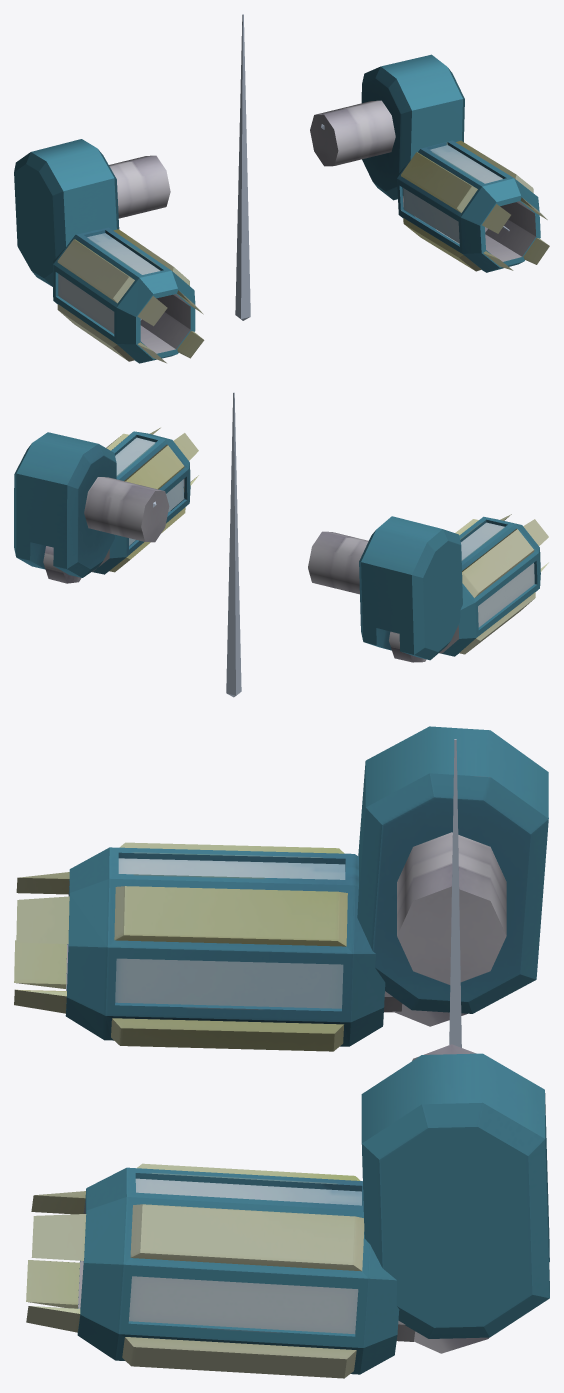
File: player_arm1.obj
3 renders of one model, top to bottom at view 1: azimuth 30°, elevation 25°; view 2: azimuth 150°, elevation 25°; view 3: azimuth 270°, elevation 25°, orthographic. The views are drawn at different scales.
Visible parts, largest first — view 1: Object009, Object010, Object007, Object008, Object005, Object006, Bone001; view 2: Object007, Object008, Object009, Object010, Object005, Bone001, Object006; view 3: Object009, Object010, Object008, Object007, Object006, Bone001.
Part boxes in pixels (box(x1,y1,x2,y2)): Object009: box(53, 227, 204, 363); Object010: box(397, 140, 549, 272); Object007: box(14, 139, 119, 286); Object008: box(361, 54, 464, 200); Object005: box(310, 100, 395, 166); Object006: box(109, 155, 170, 218); Bone001: box(235, 14, 250, 320); Object007: box(359, 516, 462, 660); Object008: box(14, 432, 116, 577); Object009: box(389, 514, 548, 662); Object010: box(43, 427, 198, 583); Object005: box(84, 477, 169, 542); Bone001: box(226, 392, 241, 697); Object006: box(308, 531, 368, 594); Object009: box(14, 842, 467, 1051); Object010: box(26, 1163, 488, 1378); Object008: box(361, 1053, 549, 1338); Object007: box(357, 726, 548, 1013); Object006: box(397, 832, 506, 984); Bone001: box(449, 739, 461, 1047).
Bounding box in the file's own units: 175 × 120 × 98.52.
2 materials, 1 textured.
